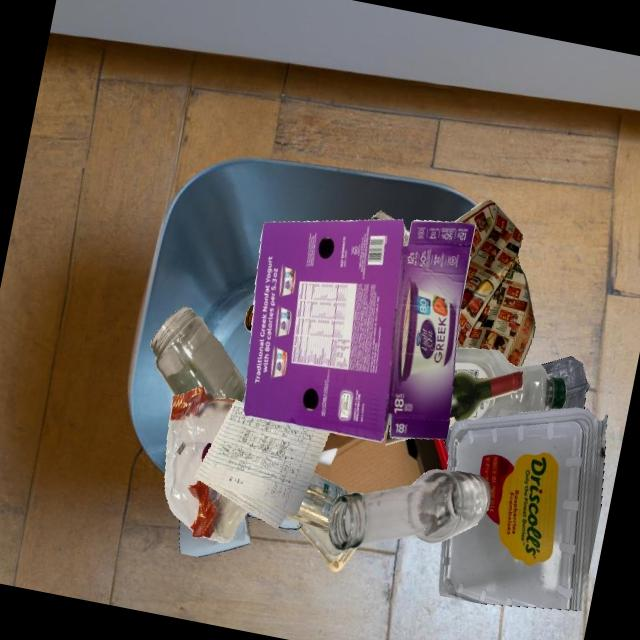biowaste: (331, 433, 350, 437)
cardboard: (243, 219, 475, 442), (313, 417, 448, 494)
glass: (328, 469, 491, 551), (151, 307, 246, 402), (449, 371, 523, 427), (286, 473, 348, 532), (245, 304, 254, 331), (371, 211, 395, 220), (403, 227, 410, 246)
paper: (194, 401, 329, 529), (454, 200, 535, 367), (179, 511, 265, 557)
plastic: (439, 408, 607, 611), (165, 386, 249, 543), (454, 348, 567, 420), (452, 369, 546, 430), (298, 524, 356, 573), (539, 357, 590, 409)
